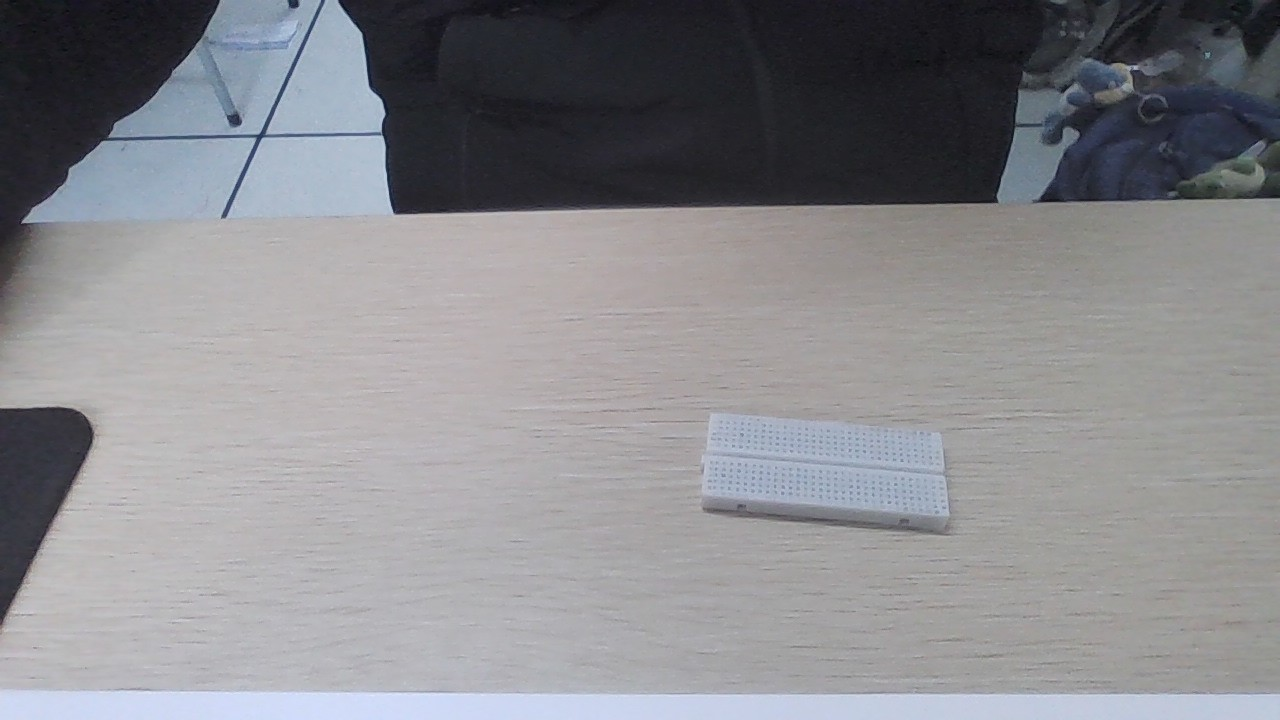KHS-breadboard: (693, 411, 946, 528)
